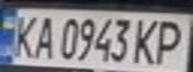0: (57, 14, 81, 61)
3: (112, 15, 136, 64)
4: (93, 15, 115, 63)
9: (75, 15, 96, 62)
A: (30, 12, 57, 61)
K: (6, 11, 42, 60), (130, 16, 163, 65)
P: (148, 17, 190, 66)
